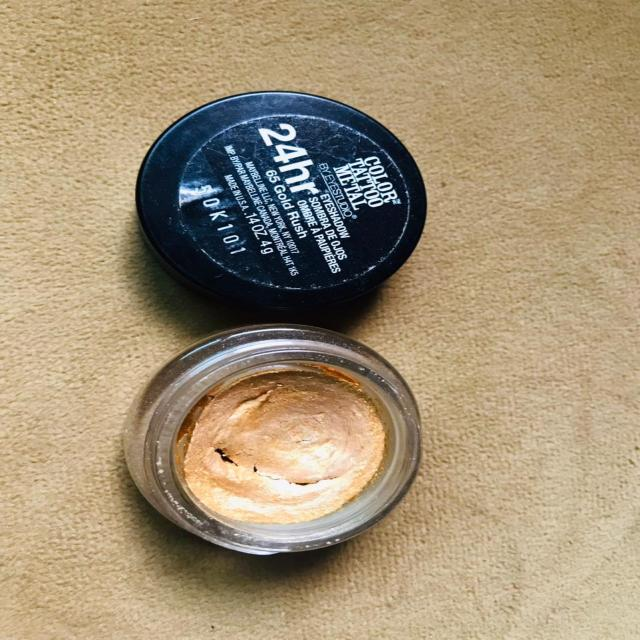highlighter: (126, 329, 453, 567), (139, 91, 456, 309)
